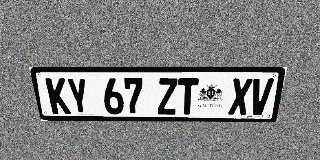6: (102, 78, 124, 114)
7: (122, 78, 144, 114)
K: (45, 78, 71, 114)
T: (177, 78, 199, 114)
V: (248, 78, 274, 115)
X: (228, 78, 253, 115)
Y: (66, 78, 90, 114)
Z: (157, 78, 178, 114)
